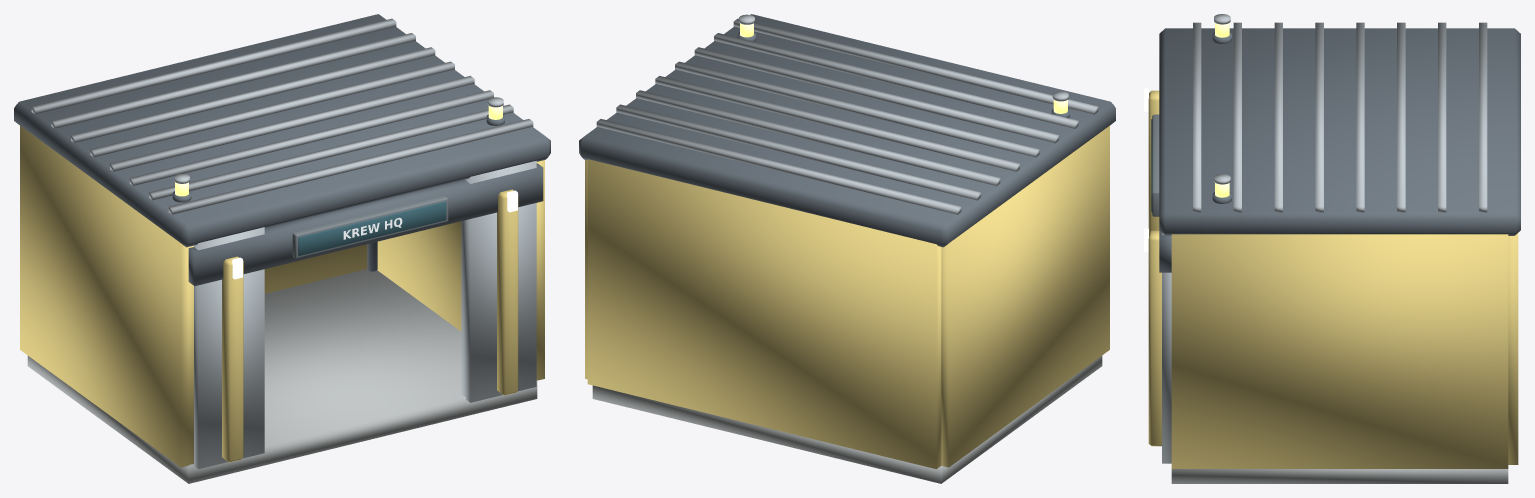
File: krew_hq_ultra.glb
3 renders of one model, left to right at view 1: azimuth 30°, elevation 25°; view 2: azimuth 150°, elevation 25°; view 3: azimuth 270°, elevation 25°, orthographic. The views are drawn at different scales.
Visible parts, largest first — view 1: Wall_yellow_legacy_1, Roof_dark_legacy_2, Foundation_concrete_legacy_0, RoofRib_steel_legacy_12, FrontFrame_steel_legacy_3, Header_dark_legacy_4, PortalTrim_yellow_legacy_15, SignPlate_glass, ScreenMount_frame; view 2: Wall_yellow_legacy_1, Roof_dark_legacy_2, RoofRib_steel_legacy_12, Foundation_concrete_legacy_0; view 3: Wall_yellow_legacy_1, Roof_dark_legacy_2, RoofRib_steel_legacy_12, Foundation_concrete_legacy_0, PortalTrim_yellow_legacy_15, FrontFrame_steel_legacy_3, ScreenMount_frame, Header_dark_legacy_4, StatusLight_warn_legacy_10.
Boxes of the visible parts, <box> form: Wall_yellow_legacy_1: <box>20,125,544,467</box>; Roof_dark_legacy_2: <box>14,14,550,247</box>; Foundation_concrete_legacy_0: <box>27,269,537,483</box>; RoofRib_steel_legacy_12: <box>31,18,533,214</box>; FrontFrame_steel_legacy_3: <box>194,160,536,469</box>; Header_dark_legacy_4: <box>188,163,543,285</box>; PortalTrim_yellow_legacy_15: <box>222,189,518,462</box>; SignPlate_glass: <box>298,201,446,255</box>; ScreenMount_frame: <box>292,196,448,258</box>; Wall_yellow_legacy_1: <box>585,125,1109,469</box>; Roof_dark_legacy_2: <box>579,14,1115,247</box>; RoofRib_steel_legacy_12: <box>596,18,1098,214</box>; Foundation_concrete_legacy_0: <box>592,356,1102,483</box>; Wall_yellow_legacy_1: <box>1171,233,1518,468</box>; Roof_dark_legacy_2: <box>1159,28,1520,235</box>; RoofRib_steel_legacy_12: <box>1193,22,1487,212</box>; Foundation_concrete_legacy_0: <box>1171,469,1508,483</box>; PortalTrim_yellow_legacy_15: <box>1148,90,1161,446</box>; FrontFrame_steel_legacy_3: <box>1162,233,1171,463</box>; ScreenMount_frame: <box>1152,114,1159,216</box>; Header_dark_legacy_4: <box>1159,230,1171,272</box>; StatusLight_warn_legacy_10: <box>1215,23,1229,197</box>.
Size of the model in its own units: 5.3 by 3.9 by 4.48.
